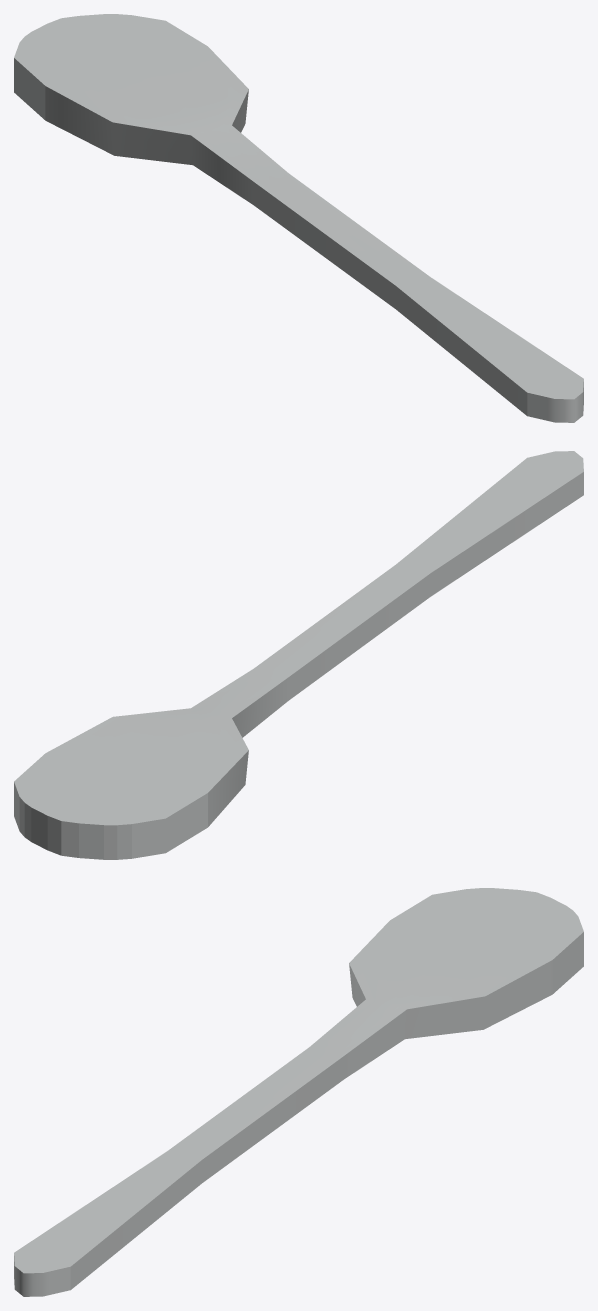
Rendered from Spoon.fbx.
3 renders of one model, top to bottom at view 1: azimuth 30°, elevation 25°; view 2: azimuth 150°, elevation 25°; view 3: azimuth 330°, elevation 25°, orthographic.
Visible parts, largest first — view 1: Spoon; view 2: Spoon; view 3: Spoon.
Boxes of the visible parts, left/top/right/bottom form: Spoon: left=14, top=14, right=583, bottom=422; Spoon: left=14, top=451, right=583, bottom=859; Spoon: left=14, top=888, right=583, bottom=1296.
Bounding box in the file's own units: 0.0604 × 0.0123 × 0.3303.
